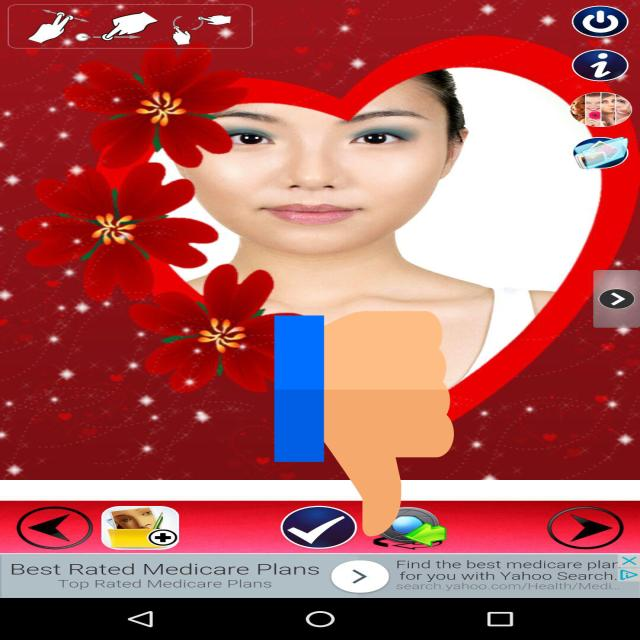obstruction: (274, 305, 454, 542)
